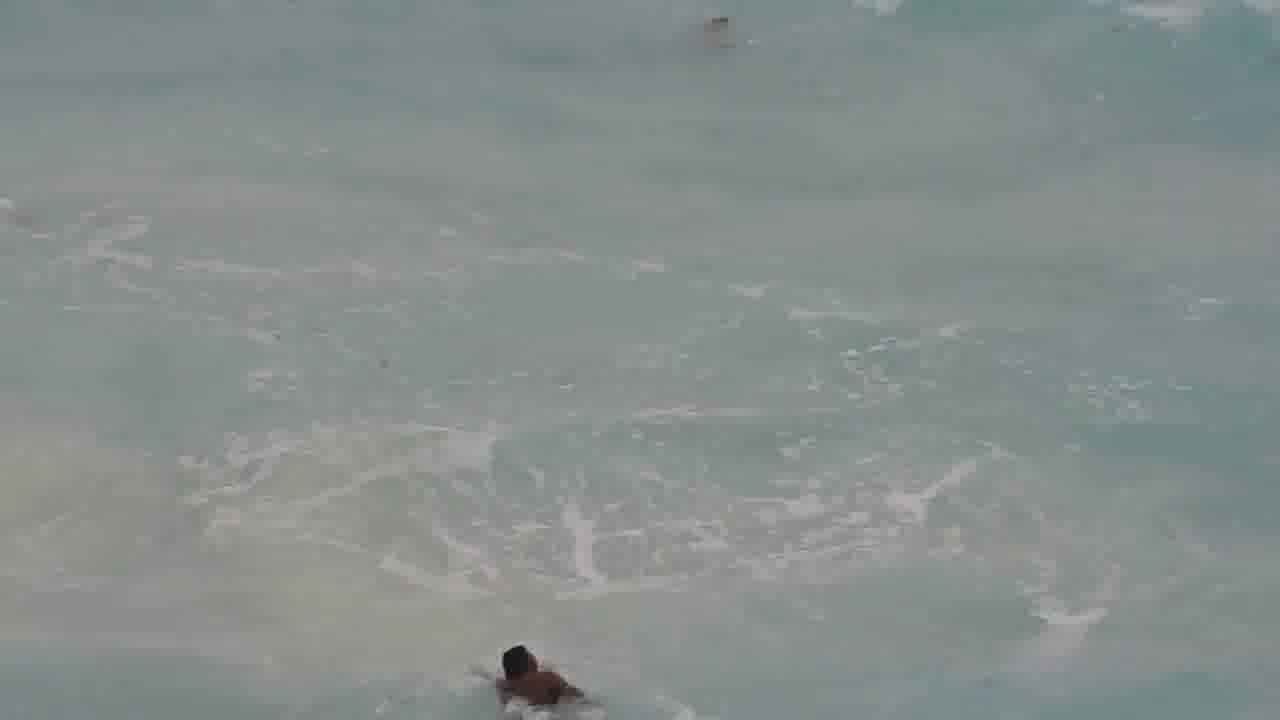human: (492, 626, 581, 713), (689, 15, 742, 54)
